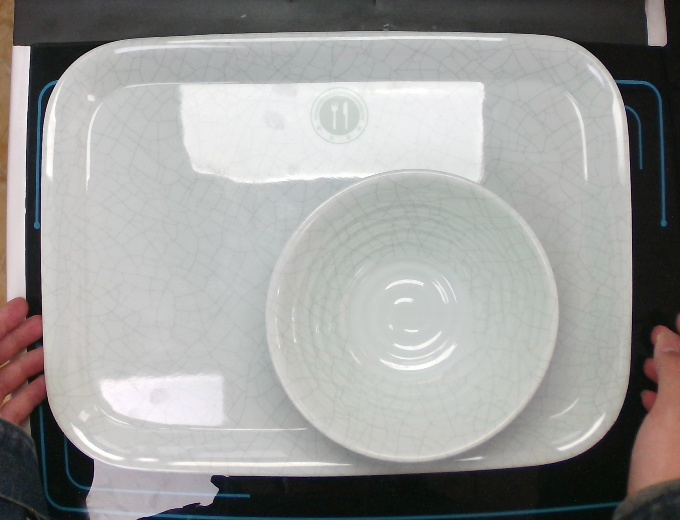JYsf-Xiao_Tang_Wan: (260, 157, 564, 468)
